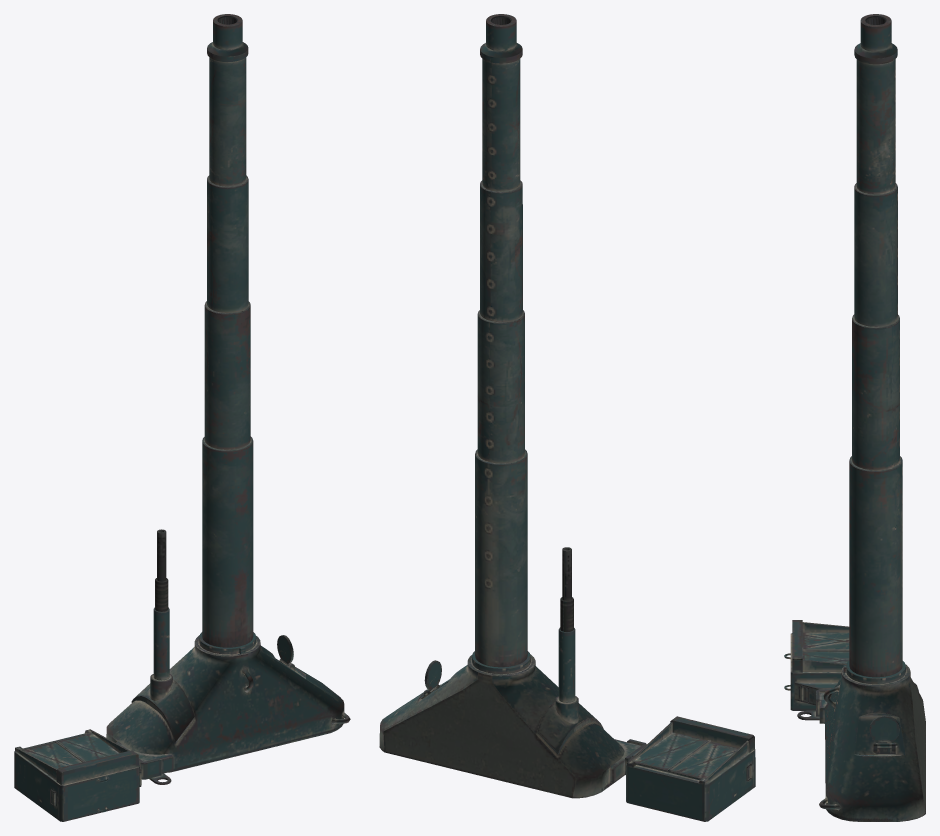
Rendered from Gun_01.glb.
The picture shows the model from 3 angles, left to right: view 1: azimuth 30°, elevation 25°; view 2: azimuth 150°, elevation 25°; view 3: azimuth 270°, elevation 25°; orthographic projection. The views are drawn at different scales.
Visible parts, largest first — view 1: set_0_group_0; view 2: set_0_group_0; view 3: set_0_group_0.
Part boxes in pixels (x1,y1,x2,y2): set_0_group_0: (14,14,350,821); set_0_group_0: (379,14,755,821); set_0_group_0: (784,14,925,821).
Size of the model in its own units: 2.04 by 4.53 by 0.7619.
1 material, 1 textured.
